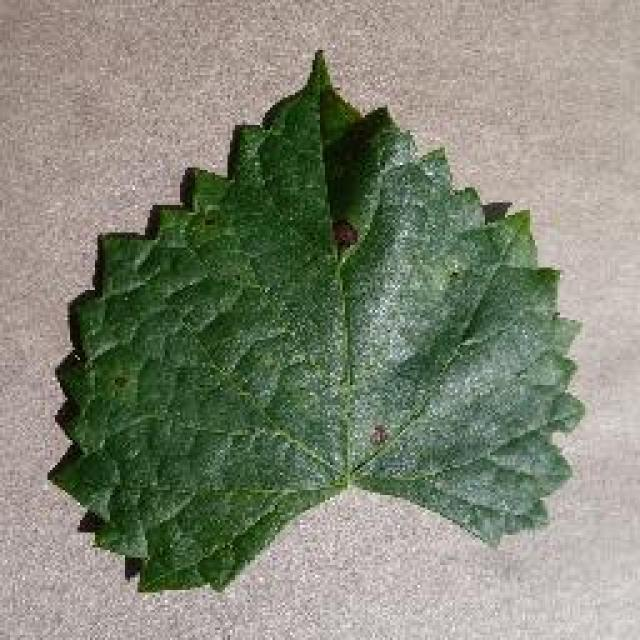Grape___Black_rot: (46, 46, 595, 598)
